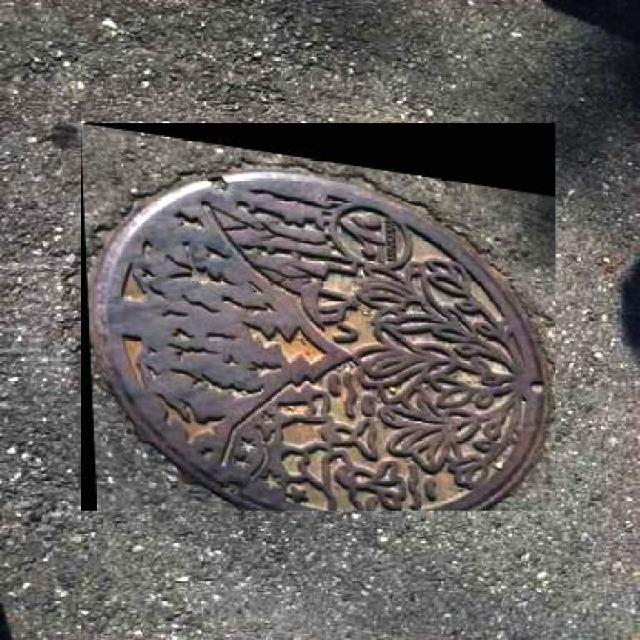Manhole: (80, 124, 556, 512)
